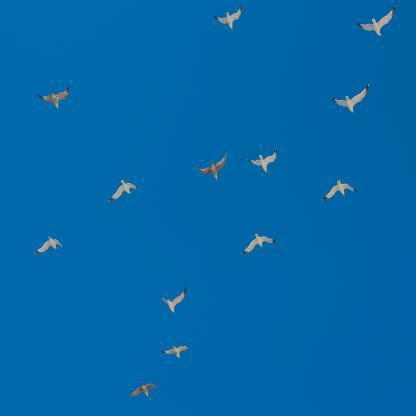bird: (331, 84, 368, 113), (358, 7, 394, 36), (197, 152, 226, 180), (247, 147, 278, 172), (322, 180, 356, 200), (38, 88, 69, 109), (159, 288, 186, 312), (242, 233, 274, 253), (215, 6, 242, 28), (109, 180, 137, 201), (35, 236, 63, 254), (129, 383, 157, 398), (161, 346, 189, 359)
